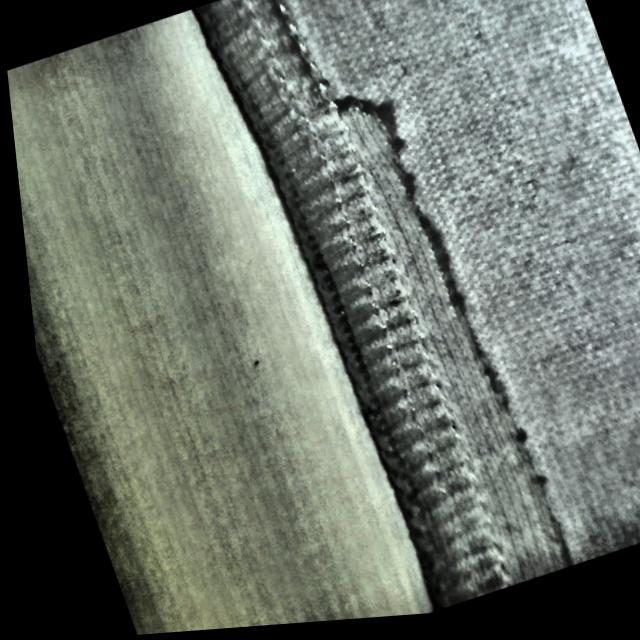seam: (250, 66, 597, 624)
